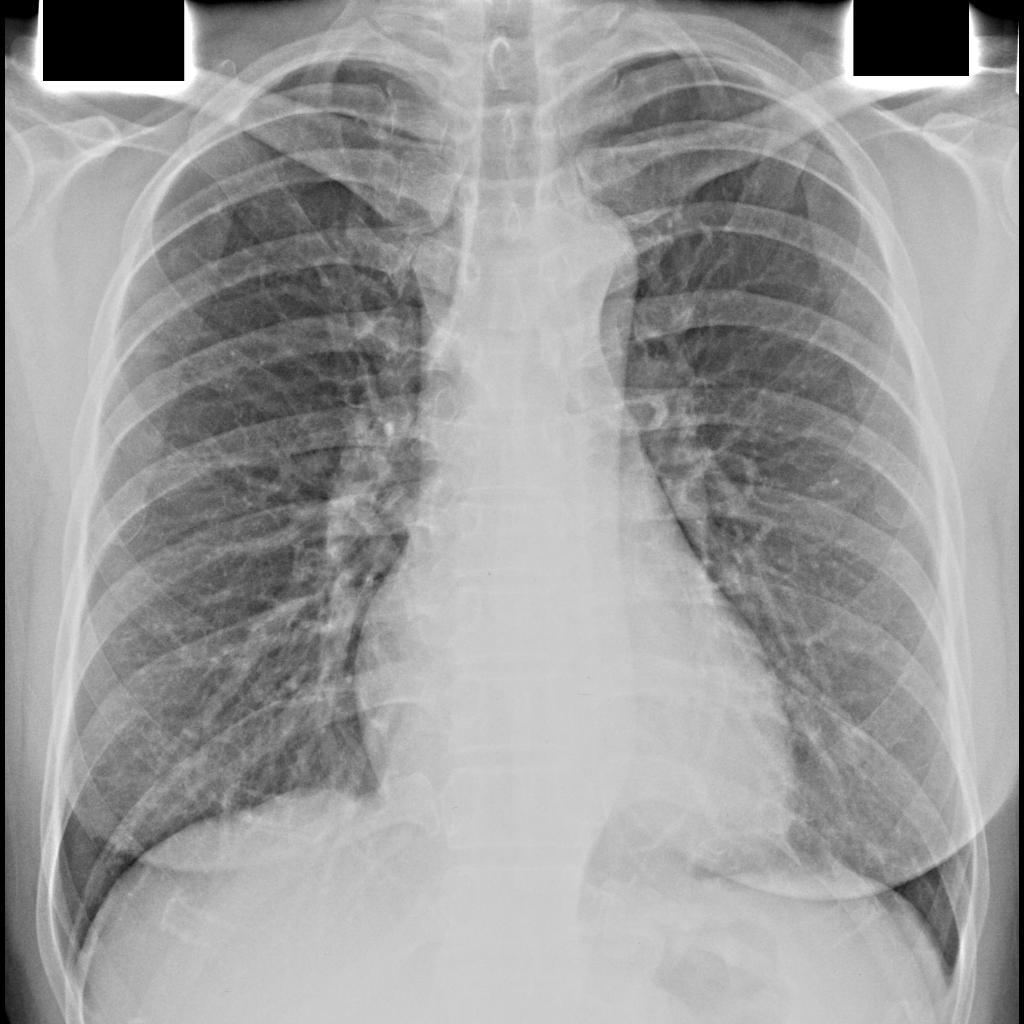Nodule: (126, 329, 161, 365)
